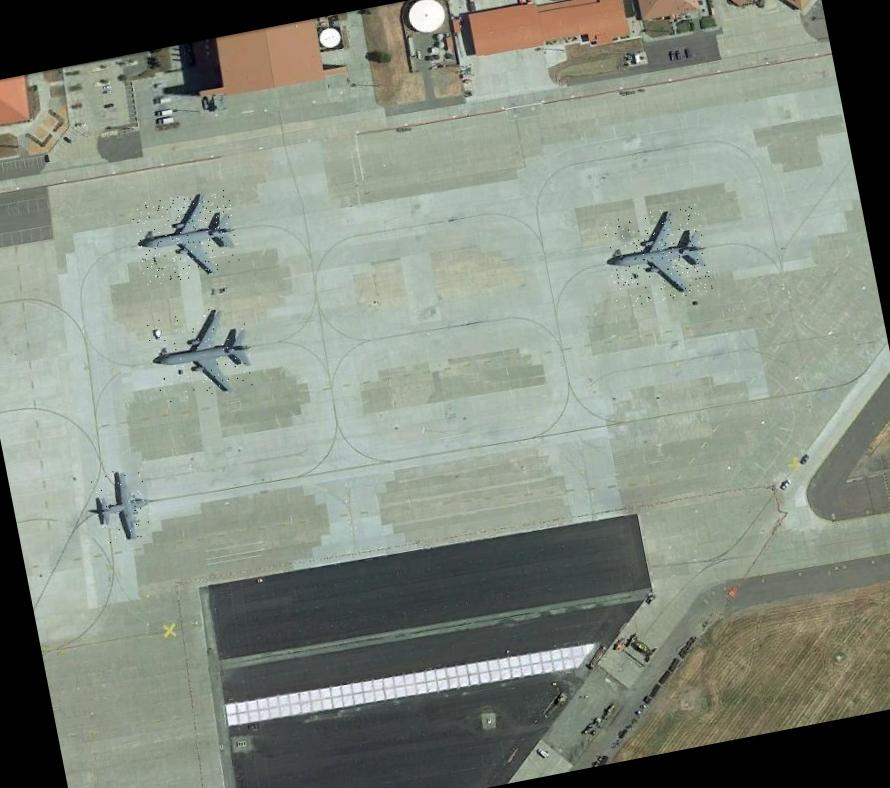A18: (600, 202, 714, 308), (146, 302, 258, 403), (130, 186, 243, 286)
A2: (89, 465, 156, 544)
